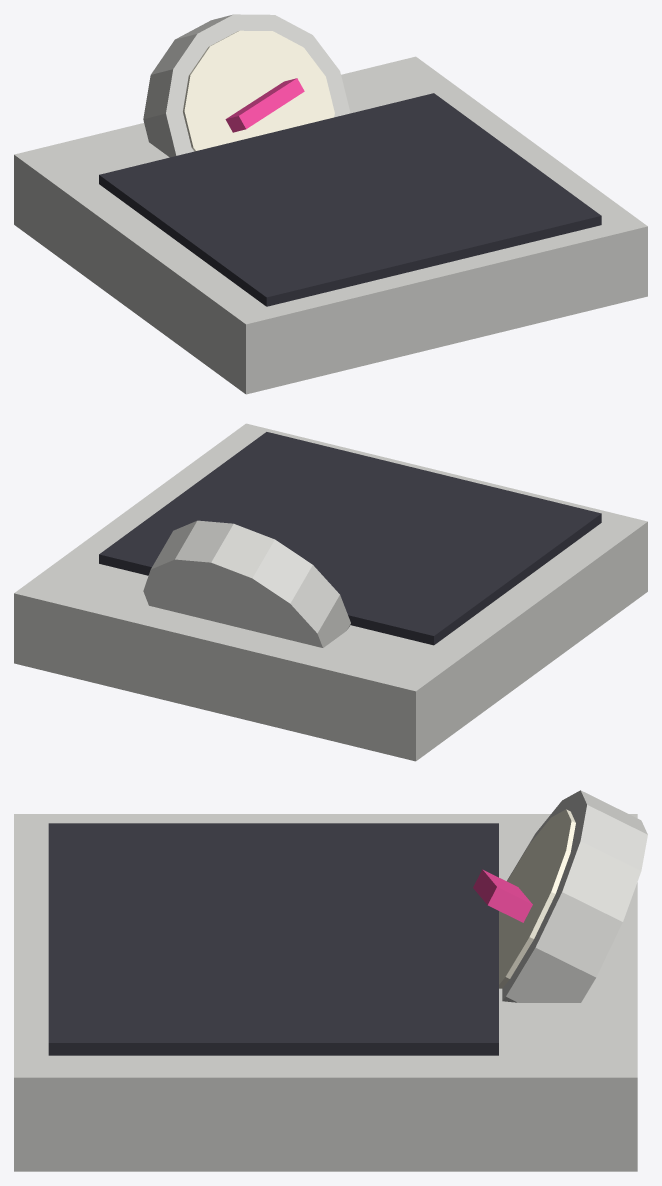
Rendered from gym_fake_scale.glb.
3 renders of one model, top to bottom at view 1: azimuth 30°, elevation 25°; view 2: azimuth 150°, elevation 25°; view 3: azimuth 270°, elevation 25°, orthographic. The views are drawn at different scales.
Visible parts, largest first — view 1: base_scale_white, base_scale_mat, dial_scale_dial, dial_scale_white, sticker_scale_sticker; view 2: base_scale_white, base_scale_mat, dial_scale_white; view 3: base_scale_mat, base_scale_white, dial_scale_white, dial_scale_dial, sticker_scale_sticker.
Boxes of the visible parts, x1,y1,x2,y2 form: base_scale_white: (14, 56, 647, 394); base_scale_mat: (99, 93, 601, 306); dial_scale_dial: (183, 30, 334, 151); dial_scale_white: (143, 14, 350, 157); sticker_scale_sticker: (225, 78, 304, 132); base_scale_white: (14, 423, 647, 761); base_scale_mat: (99, 432, 601, 645); dial_scale_white: (143, 520, 350, 647); base_scale_mat: (48, 823, 498, 1055); base_scale_white: (14, 814, 637, 1171); dial_scale_white: (502, 790, 647, 1002); dial_scale_dial: (499, 809, 575, 988); sticker_scale_sticker: (473, 869, 532, 922).
Bounding box in the file's own units: 0.36 × 0.1596 × 0.3659.
